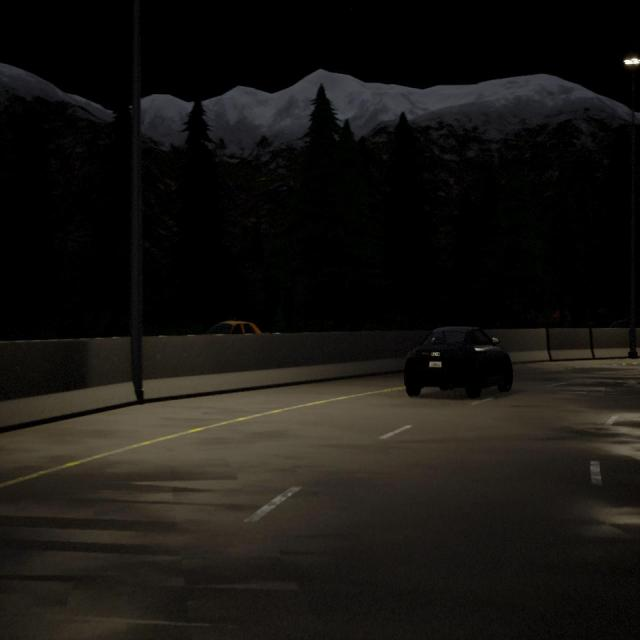Vehicle: (403, 325, 512, 400), (208, 320, 260, 335)
